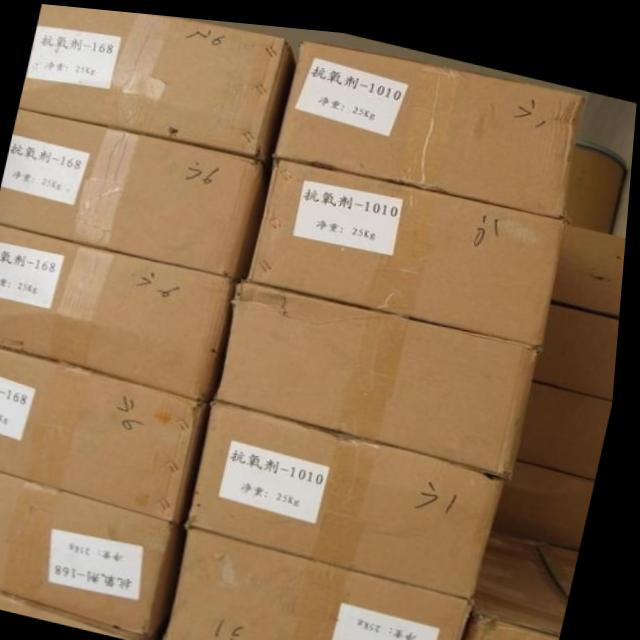box: (188, 395, 513, 589), (221, 275, 544, 469), (249, 153, 574, 344), (275, 34, 586, 211), (0, 108, 273, 275), (20, 3, 297, 161), (0, 225, 240, 398), (0, 346, 218, 520), (177, 525, 486, 640), (0, 470, 195, 633), (472, 519, 587, 640), (501, 449, 602, 538), (525, 371, 618, 467), (0, 589, 175, 640), (541, 293, 623, 387), (558, 213, 629, 303)
